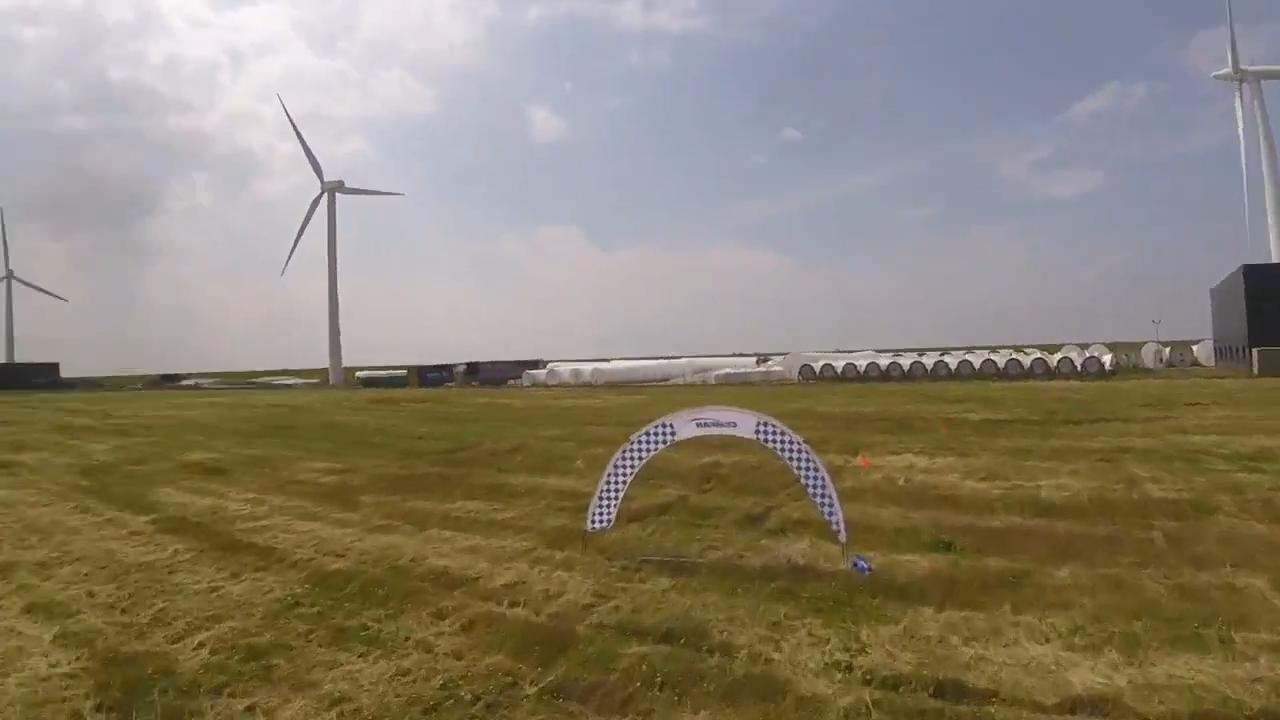gate: (585, 404, 846, 541)
